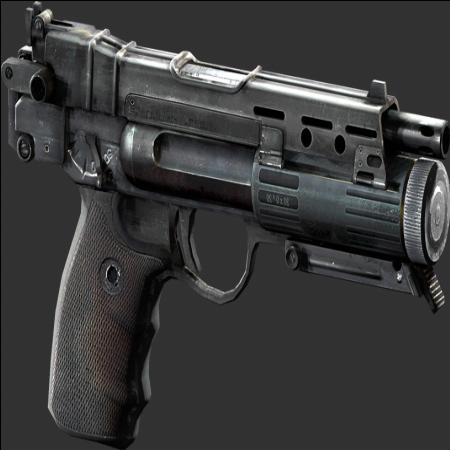Pistol: (2, 1, 449, 446)
